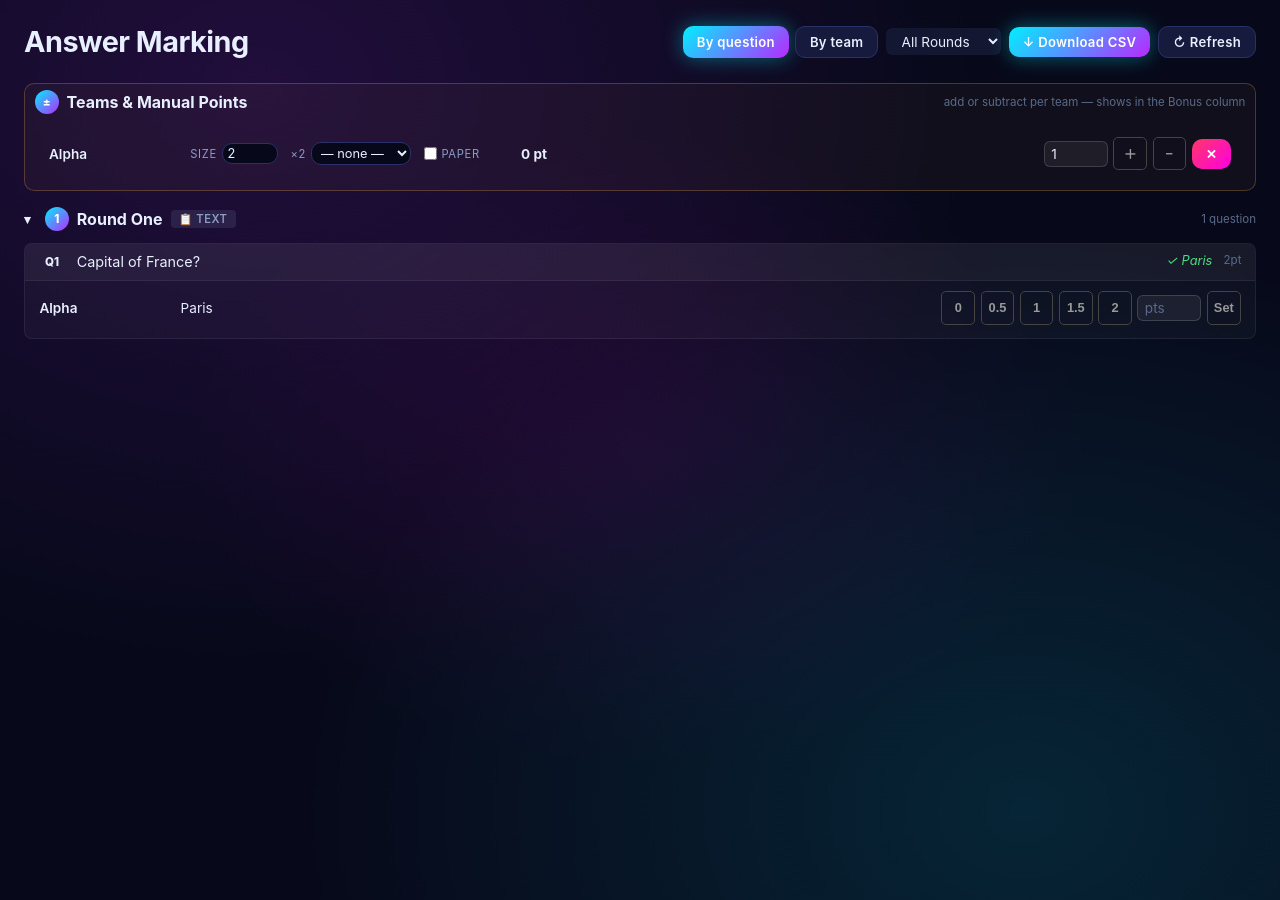
AnswerMarking › switches to a team-by-team view with the correct answer beside each team answer
expect the text "Capital of France?" is shown: met, box [77,253,200,270]
Click the button "By team".
click(837, 42)  # box [795,26,878,58]
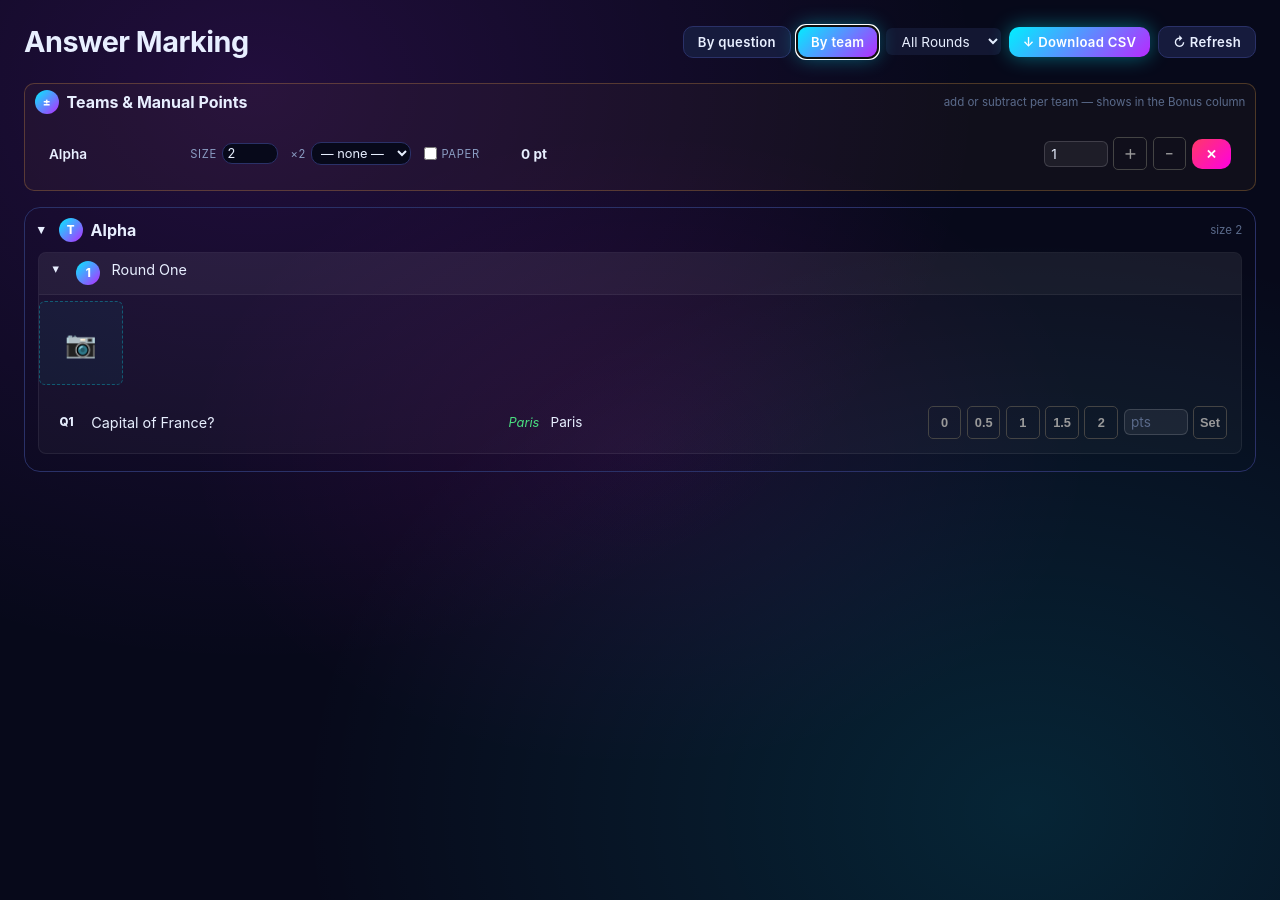
expect the button "2" is shown: met, box [1084,406,1118,439]
expect the element with class "marking-team-card" is shown: met, box [24,207,1256,472]
